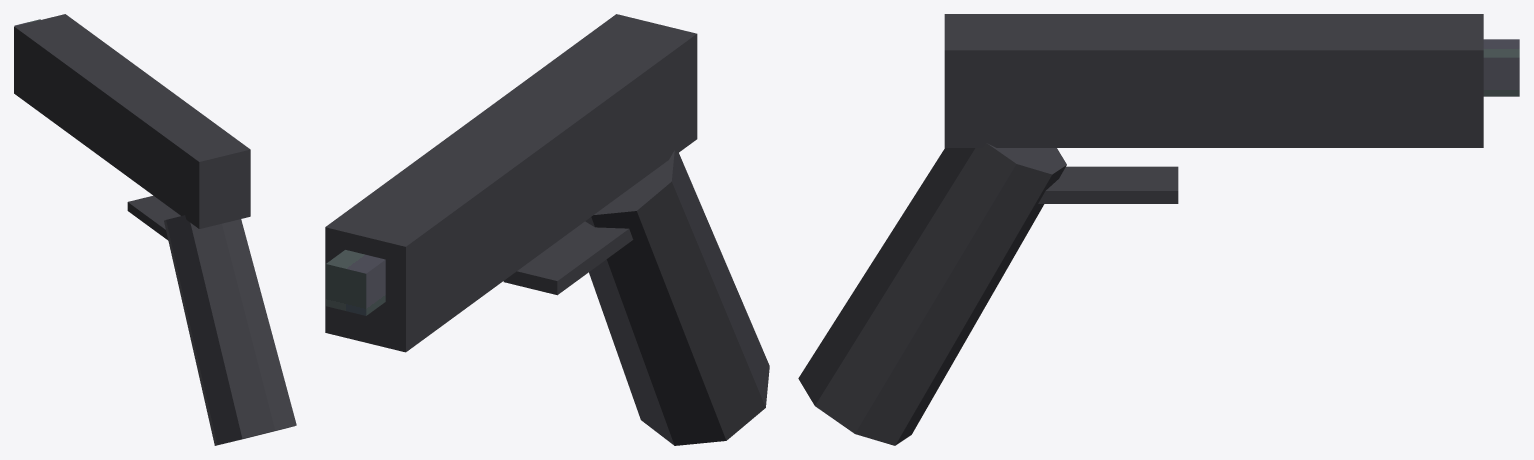
File: vm_pistol.glb
The picture shows the model from 3 angles, left to right: view 1: azimuth 30°, elevation 25°; view 2: azimuth 150°, elevation 25°; view 3: azimuth 270°, elevation 25°; orthographic projection. The views are drawn at different scales.
Visible parts, largest first — view 1: flat.003; view 2: flat.003, metal; view 3: flat.003, metal.
Part boxes in pixels (x1=…): flat.003: x1=14, y1=14, x2=296, y2=445; flat.003: x1=325, y1=14, x2=769, y2=445; metal: x1=326, y1=250, x2=385, y2=315; flat.003: x1=798, y1=14, x2=1483, y2=445; metal: x1=1483, y1=39, x2=1519, y2=96.
Bounding box in the file's own units: 0.036 × 0.1237 × 0.2008.
Materials: 2 (1 with a texture image).
